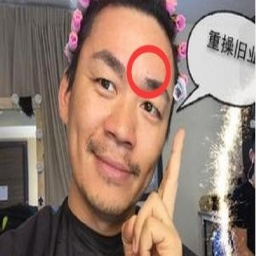noWear: (56, 47, 176, 216)
